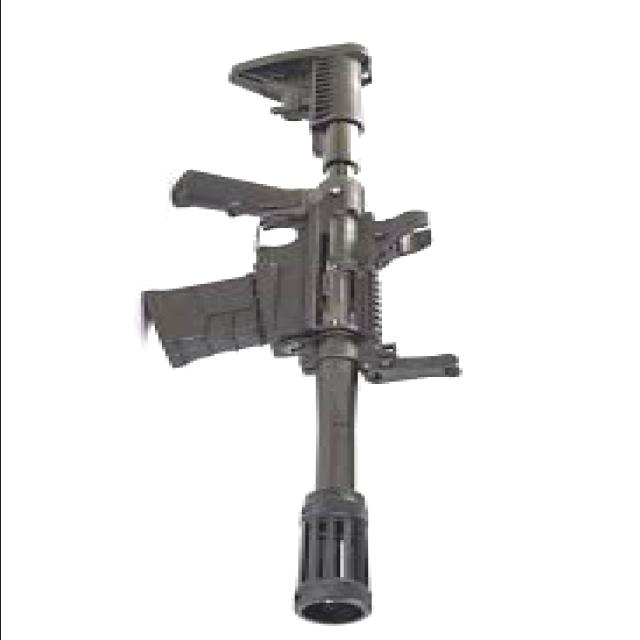long weapon: (150, 32, 457, 628)
